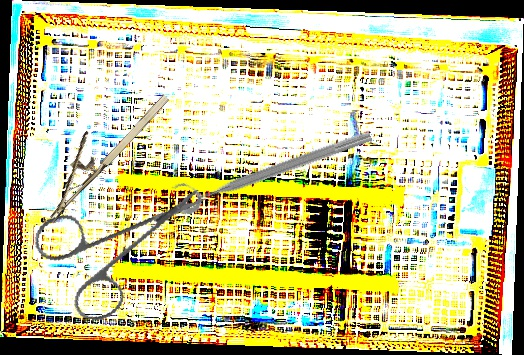Fixation Ring: (170, 114, 375, 218)
Iris Scissors: (18, 154, 209, 340)
Needle Holder: (24, 73, 174, 223)
